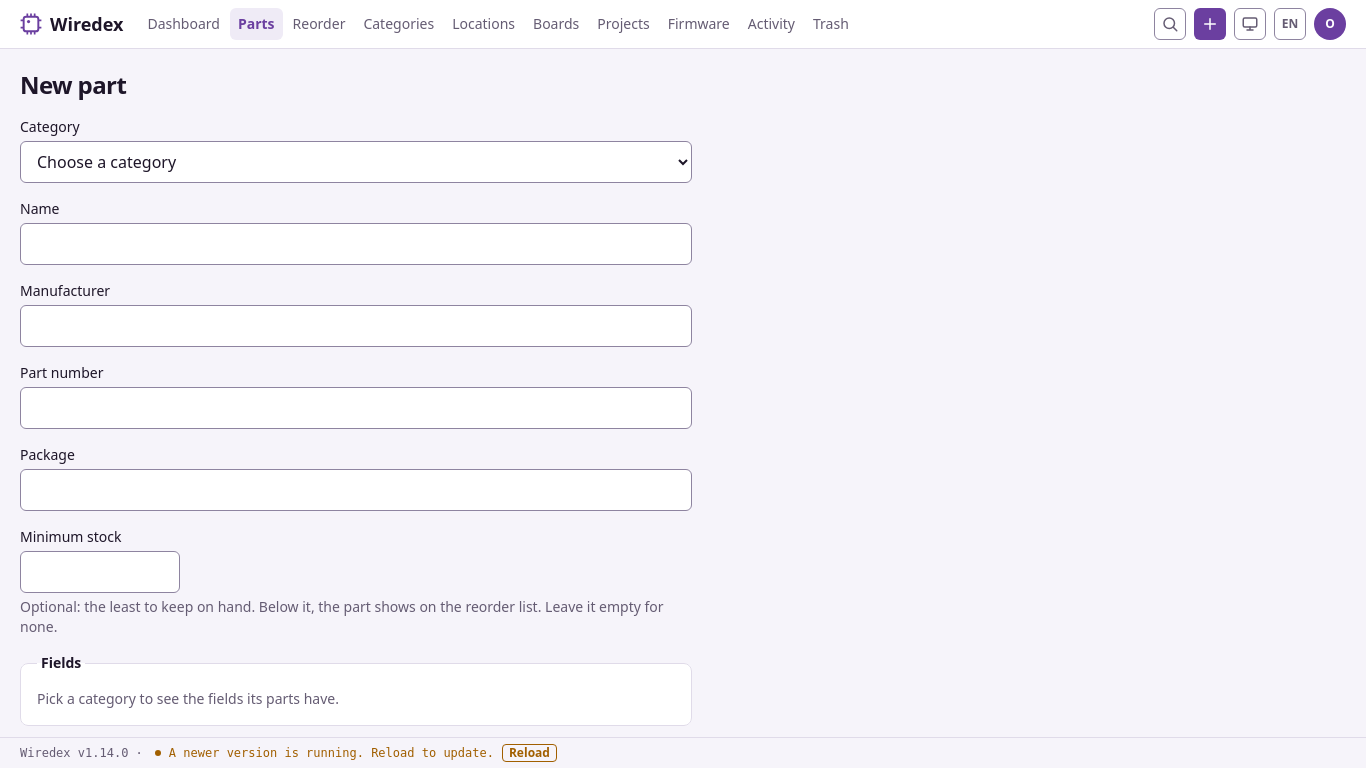
PartForm › leaves the package out for a part of a mechanical category
This screenshot has width=1366, height=768.
expect the field labelled "Package" is shown: met, box [20,469,692,511]
Select "Resistors" in the dropdown labelled "Category" at (356, 162), box [20,141,692,183]
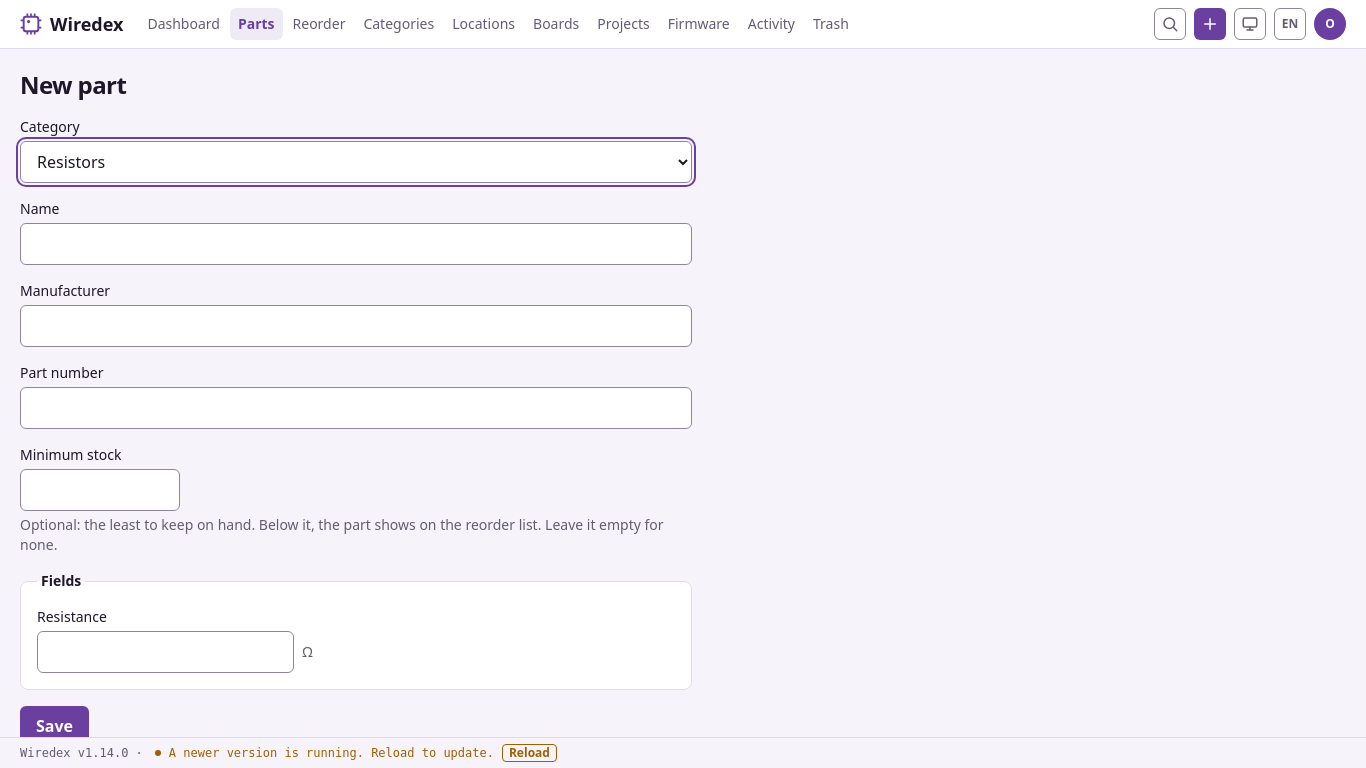
expect the field labelled "Part number" is shown: met, box [20,387,692,429]
expect the label "Package" is gone: met
